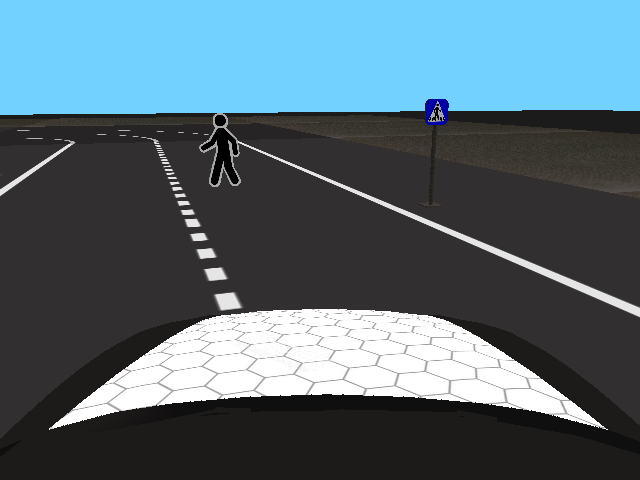pedestrian: (198, 113, 243, 186)
